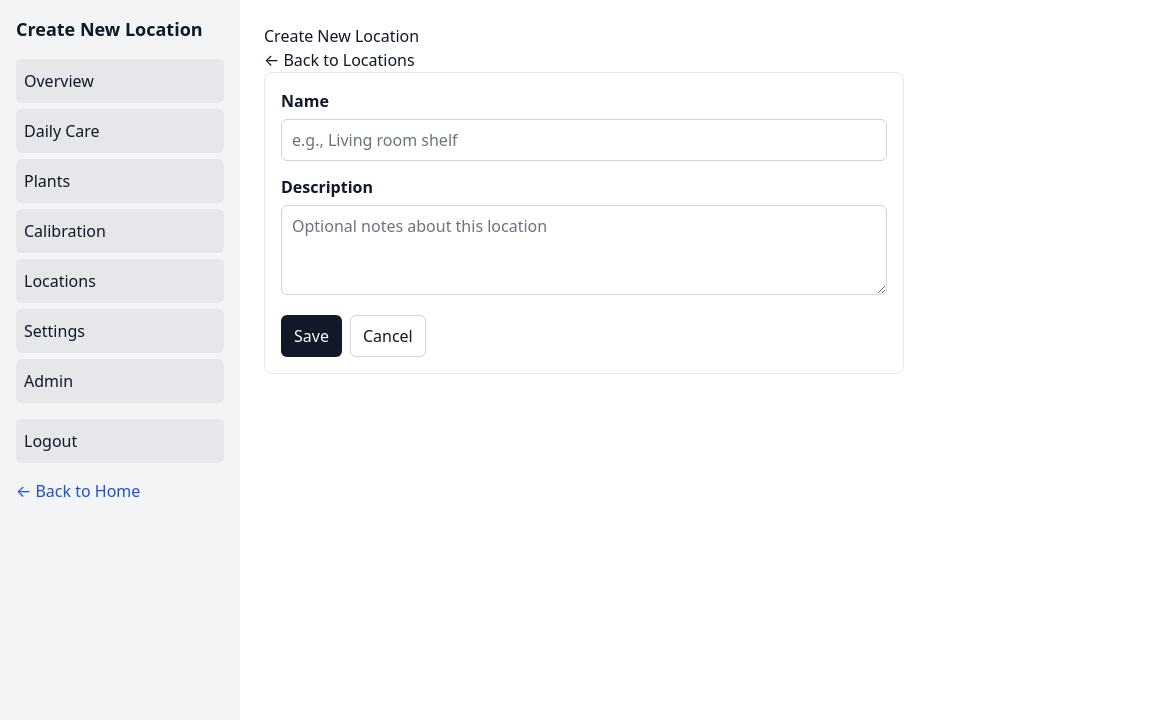
pages/LocationCreate › server error maps to name field error
The image size is (1152, 720).
Type "Office" into the field labelled "Name".
click(584, 140); type("Office")  # box [281,119,887,161]
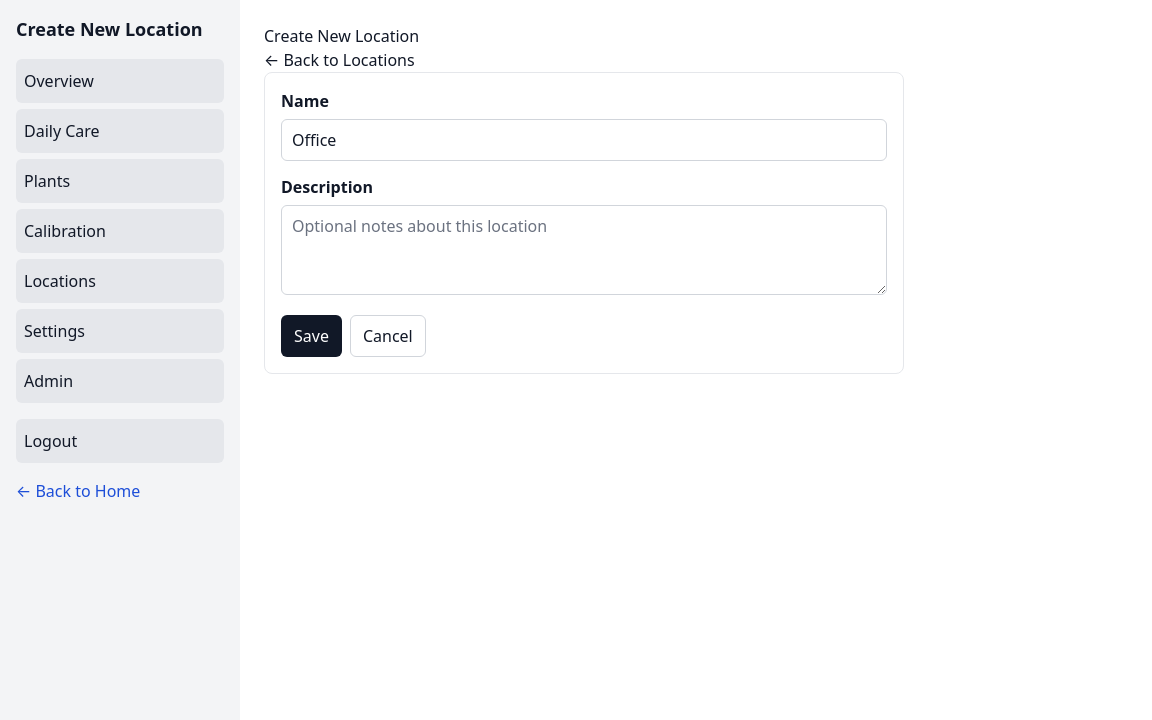
Click the button "Save".
click(311, 336)  # box [281,315,342,357]
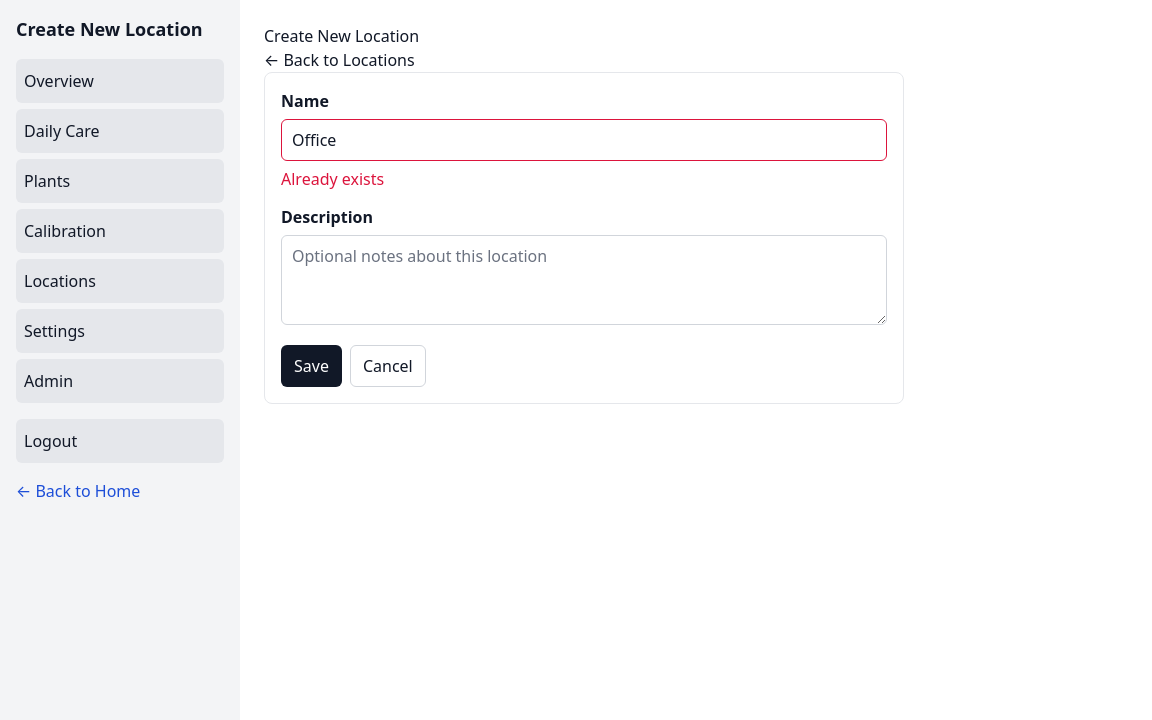
Expected: the text "Already exists" is shown, [281,168,384,190]
